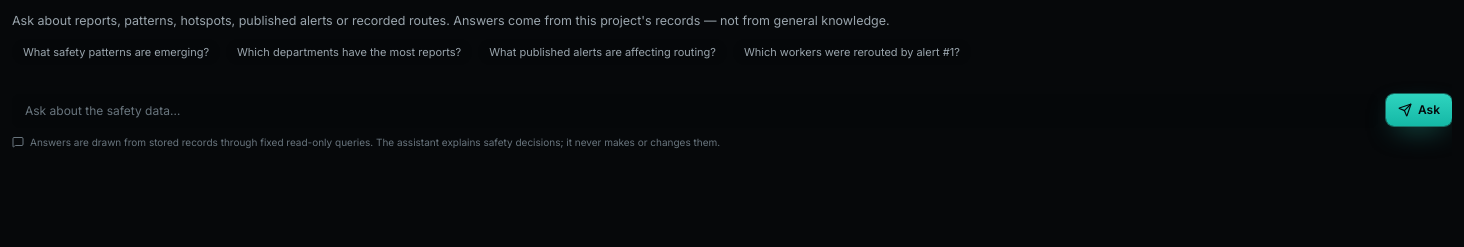
Test: a grounded answer › sends the role and question, and shows the answer
Type "Which workers were rerouted by alert #4?" into the field named "Ask the safety assistant" at (695, 111), box left=12, top=94, right=1378, bottom=128
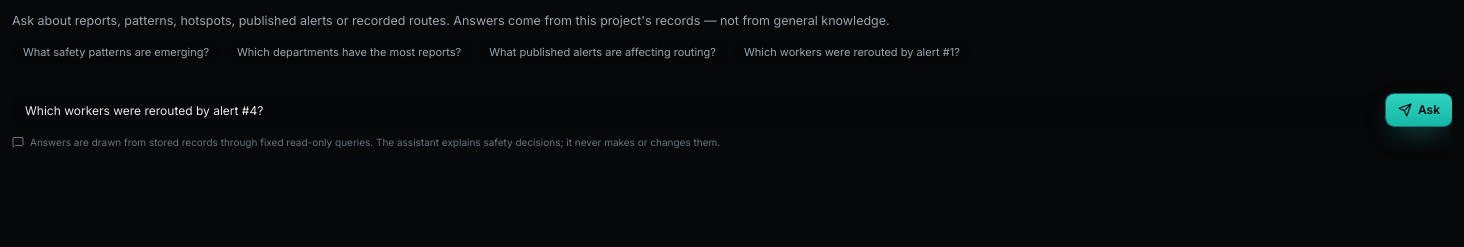
Click the button "Ask" at (1419, 110), box left=1386, top=94, right=1452, bottom=126
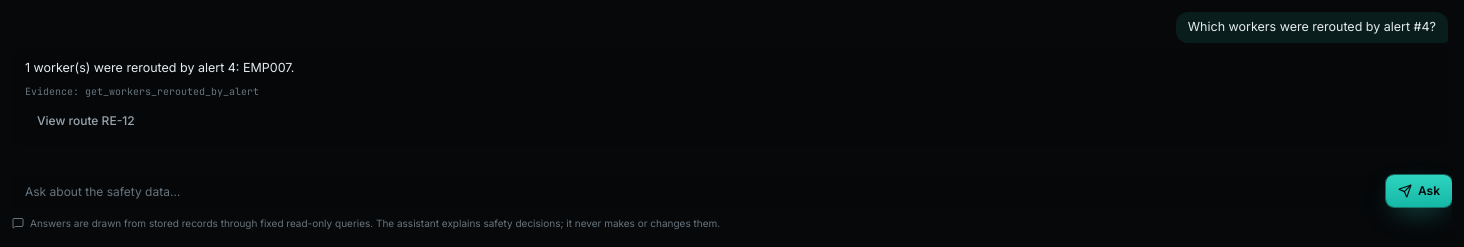
Expected: the text "1 worker(s) were rerouted by alert 4: EMP007." is shown, left=25, top=60, right=294, bottom=75
Expected: the text "Which workers were rerouted by alert #4?" is shown, left=1176, top=12, right=1448, bottom=43
